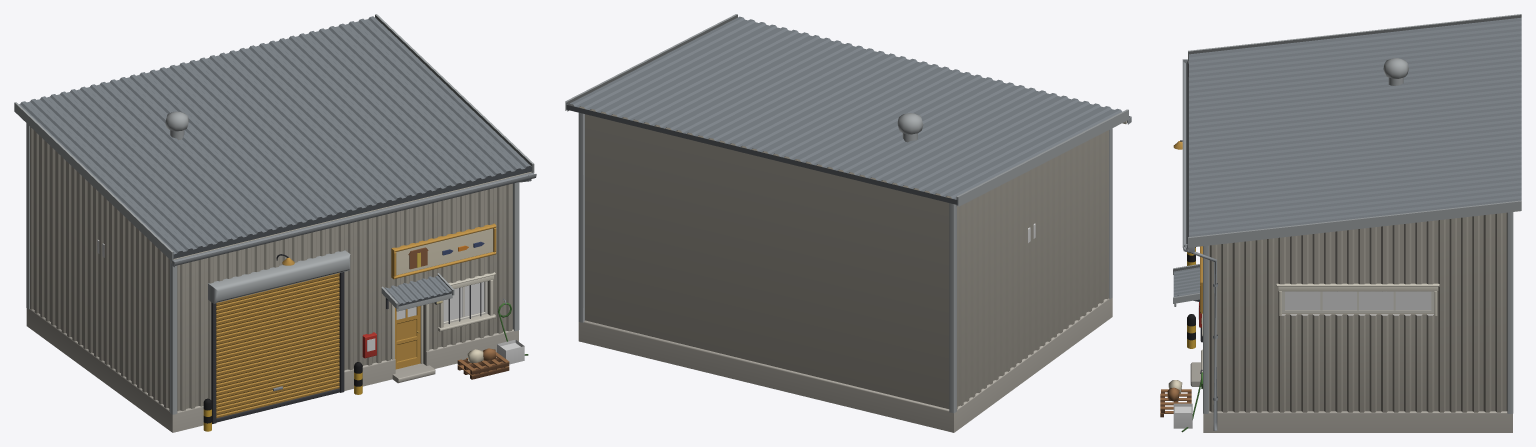
The model's file is Warehouse.fbx.
3 renders of one model, left to right at view 1: azimuth 30°, elevation 25°; view 2: azimuth 150°, elevation 25°; view 3: azimuth 270°, elevation 25°, orthographic. The views are drawn at different scales.
Visible parts, largest first — view 1: Warehouse; view 2: Warehouse; view 3: Warehouse.
Boxes of the visible parts, left/top/right/bottom form: Warehouse: left=14, top=14, right=536, bottom=432; Warehouse: left=565, top=14, right=1131, bottom=432; Warehouse: left=1160, top=14, right=1521, bottom=432.
Bounding box in the file's own units: 11.66 × 7.07 × 9.5.
